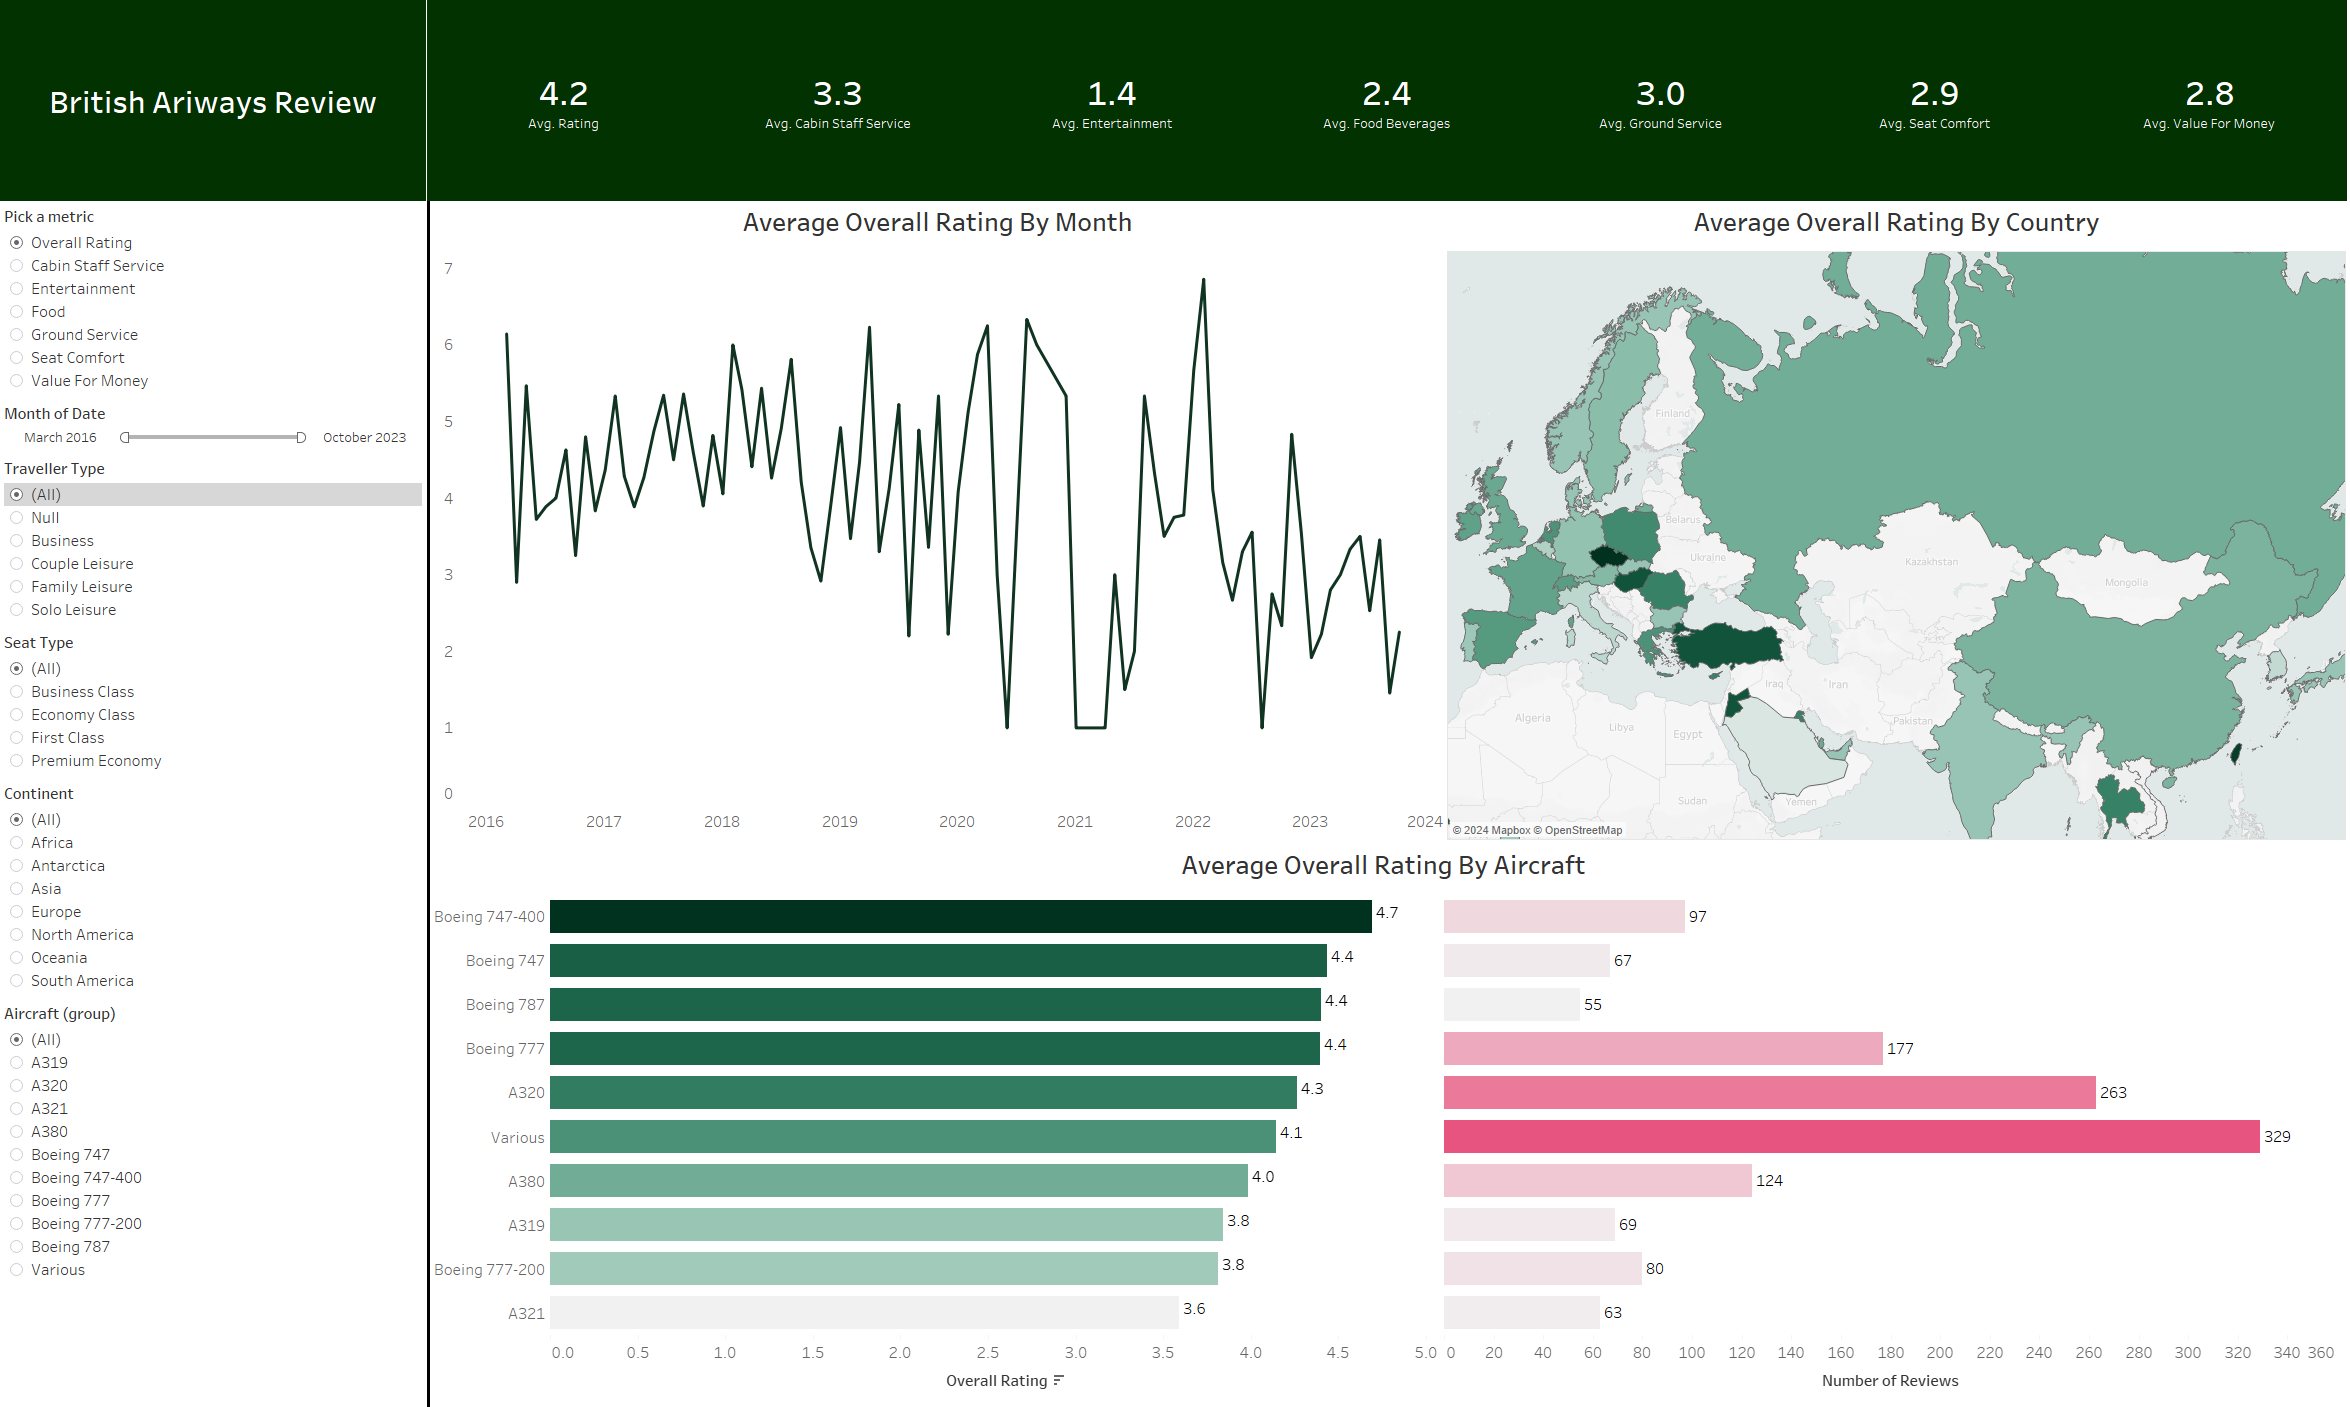

What the dashboard file says about the page in this screenshot:
{"tool":"tableau","page":{"name":"Dashboard 1","canvas":[1000,1000],"units":"permille","ordinal":0},"visuals":[{"type":"text","box":[0,0,166.6,142.7]},{"type":"worksheet","title":"Summary","mark":"Automatic","box":[166.7,0,750,142.9]},{"type":"blank","box":[166.7,142.6,1.3,855.8]},{"type":"worksheet","title":"Rating By Month","mark":"Automatic","rows":["Calculation_1741204209154605056"],"cols":["date"],"box":[168.1,142.6,396.6,448.9]},{"type":"worksheet","title":"Map","mark":"Multipolygon","box":[565.1,142.6,351.3,452.8]},{"type":"parameter","param":"[Parameters].[Parameter 1]","box":[0,143.4,166.3,153.6]},{"type":"filter","title":"Map","param":"[federated.0pz1v940ch1apz19emn4q1hzznqp].[tmn:date:qk]","box":[0,297,166.3,42.9]},{"type":"filter","title":"Map","param":"[federated.0pz1v940ch1apz19emn4q1hzznqp].[none:traveller_type:nk]","box":[0,339.8,166.3,135.6]},{"type":"filter","title":"Map","param":"[federated.0pz1v940ch1apz19emn4q1hzznqp].[none:seat_type:nk]","box":[0,475.4,166.3,117.7]},{"type":"filter","title":"Map","param":"[federated.0pz1v940ch1apz19emn4q1hzznqp].[none:Continent:nk]","box":[0,593.1,166.3,171.5]},{"type":"worksheet","title":"Aircrafts","mark":"Automatic","cols":["Calculation_1741204209154605056","ba_reviews.csv_E3FFC4C00FA0460A8B712E007B76131B"],"box":[168.1,598.6,744.9,399.1]},{"type":"filter","title":"Map","param":"[federated.0pz1v940ch1apz19emn4q1hzznqp].[Aircraft (group)]","box":[0,764.6,166.3,225.3]}]}

Visuals, with their boxes on the dashboard's canvas, which has no fixed pixel size, in thousandths of its width and height (x1, y1, x2, y2). These are canvas units, not pixel positions in the 2350x1407 screenshot, which may show the page scaled, cropped or inside an application window:
text: (0, 0, 167, 143)
"Summary" worksheet: (167, 0, 917, 143)
blank: (167, 143, 168, 998)
"Rating By Month" worksheet: (168, 143, 565, 592)
"Map" worksheet (Multipolygon marks): (565, 143, 916, 595)
parameter: (0, 143, 166, 297)
"Map" filter: (0, 297, 166, 340)
"Map" filter: (0, 340, 166, 475)
"Map" filter: (0, 475, 166, 593)
"Map" filter: (0, 593, 166, 765)
"Aircrafts" worksheet: (168, 599, 913, 998)
"Map" filter: (0, 765, 166, 990)
